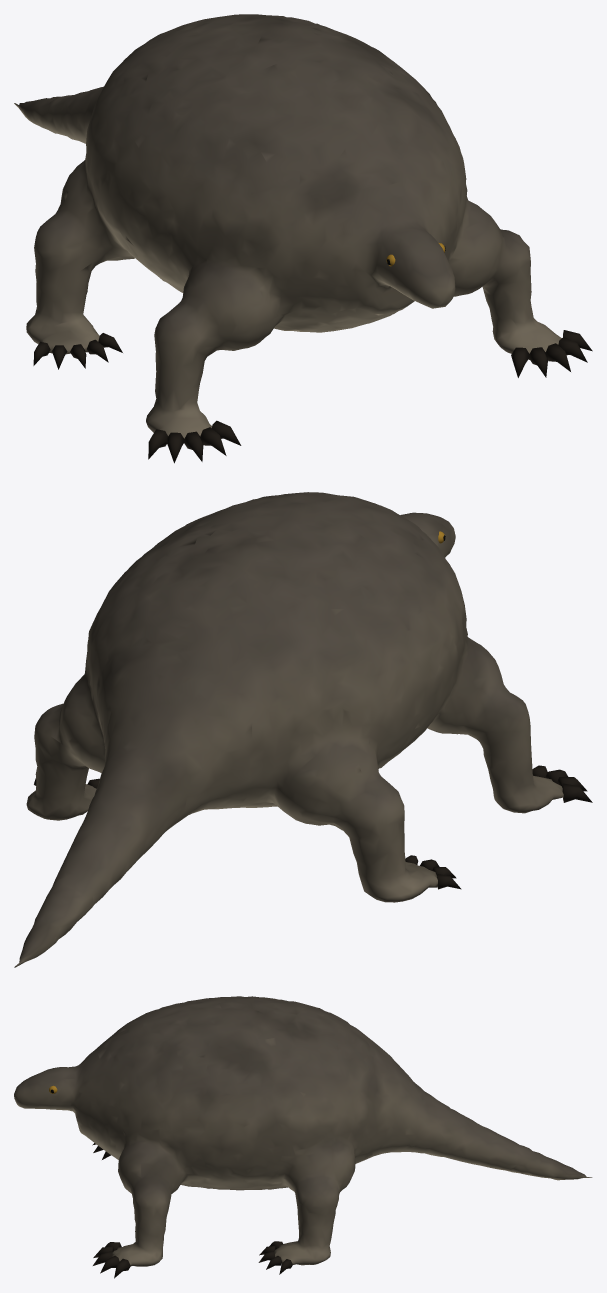
The model's file is Cotylorhynchus.fbx.
3 renders of one model, top to bottom at view 1: azimuth 30°, elevation 25°; view 2: azimuth 150°, elevation 25°; view 3: azimuth 270°, elevation 25°, orthographic. The views are drawn at different scales.
Parts seen in each view (by area): view 1: Cotylorhynchus; view 2: Cotylorhynchus; view 3: Cotylorhynchus.
Part boxes in pixels (x1,y1,x2,y2): Cotylorhynchus: [14, 14, 592, 463]; Cotylorhynchus: [14, 492, 592, 967]; Cotylorhynchus: [14, 996, 592, 1278].
Size of the model in its own units: 0.9998 by 0.6228 by 1.68.
